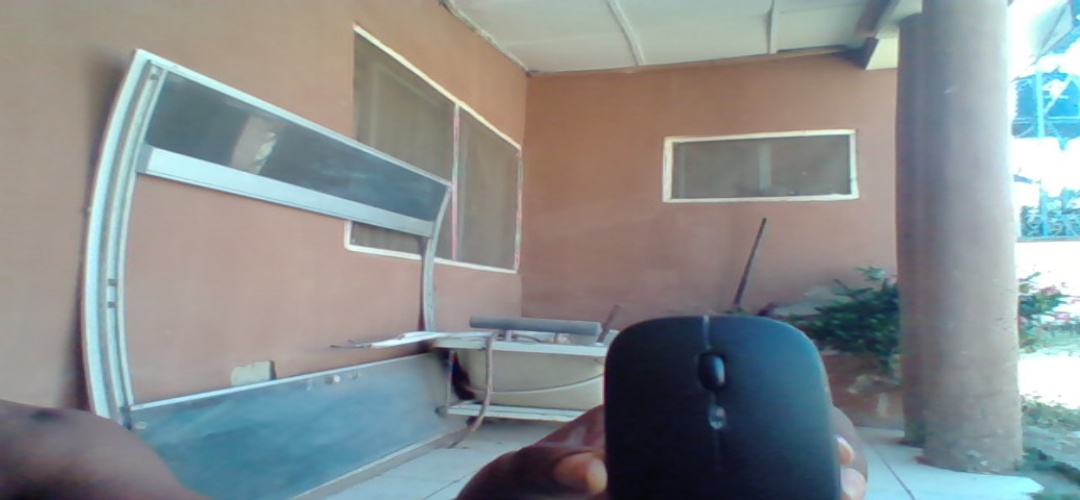wireless_mouse: (603, 311, 846, 500)
